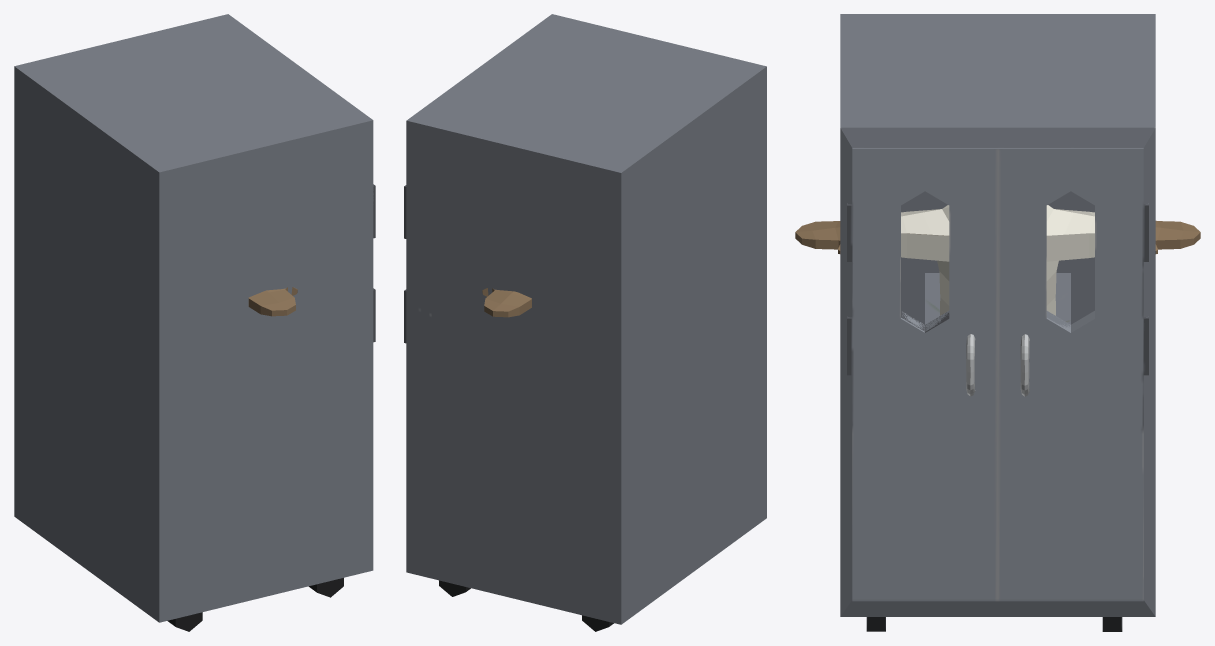
File: RollingModelShelvieCabinet.fbx
3 renders of one model, left to right at view 1: azimuth 30°, elevation 25°; view 2: azimuth 150°, elevation 25°; view 3: azimuth 270°, elevation 25°, orthographic. The views are drawn at different scales.
Parts seen in each view (by area): view 1: Cabinet, Human; view 2: Cabinet, Human; view 3: Cabinet, Human.
Boxes of the visible parts, left/top/right/bottom form: Cabinet: left=14, top=14, right=375, bottom=631; Human: left=248, top=287, right=297, bottom=316; Cabinet: left=404, top=14, right=766, bottom=631; Human: left=482, top=288, right=531, bottom=317; Cabinet: left=840, top=14, right=1155, bottom=631; Human: left=795, top=205, right=1200, bottom=315.
Size of the model in its own units: 109 by 213 by 150.
